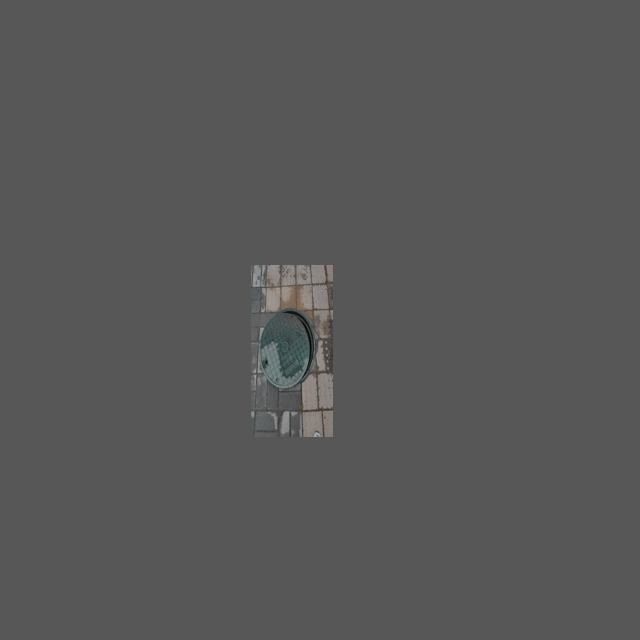uncovered: (258, 307, 315, 384)
